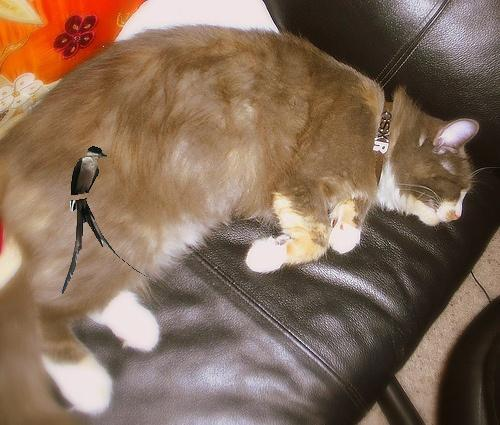tampered: (63, 47, 160, 294)
